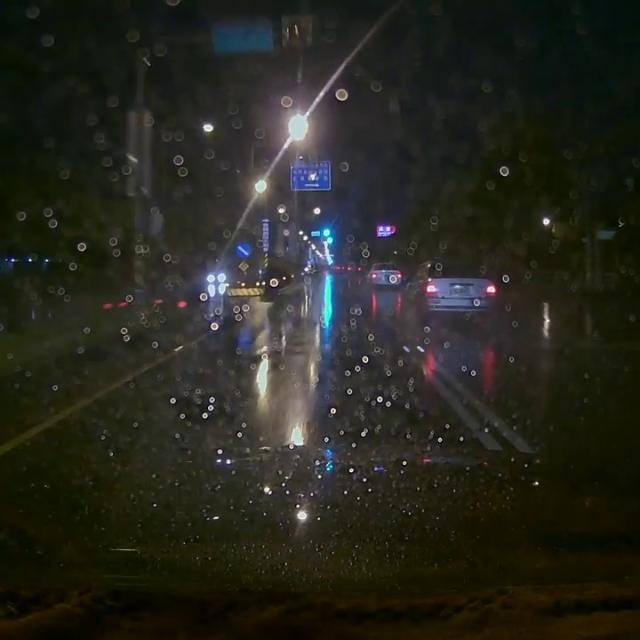Car: (401, 257, 498, 321), (366, 258, 404, 290)
